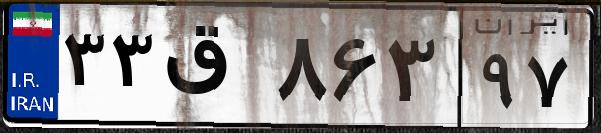3: (385, 28, 445, 110), (57, 26, 110, 100), (110, 28, 158, 98)
6: (330, 28, 385, 110)
7: (525, 38, 570, 115)
8: (270, 28, 330, 110)
9: (475, 38, 525, 113)
ق: (158, 20, 270, 120)
